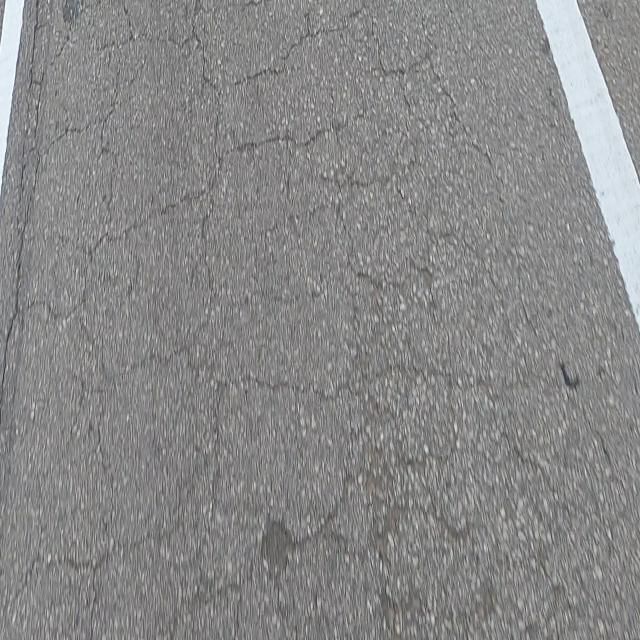Retak-Buaya: (0, 0, 631, 640)
